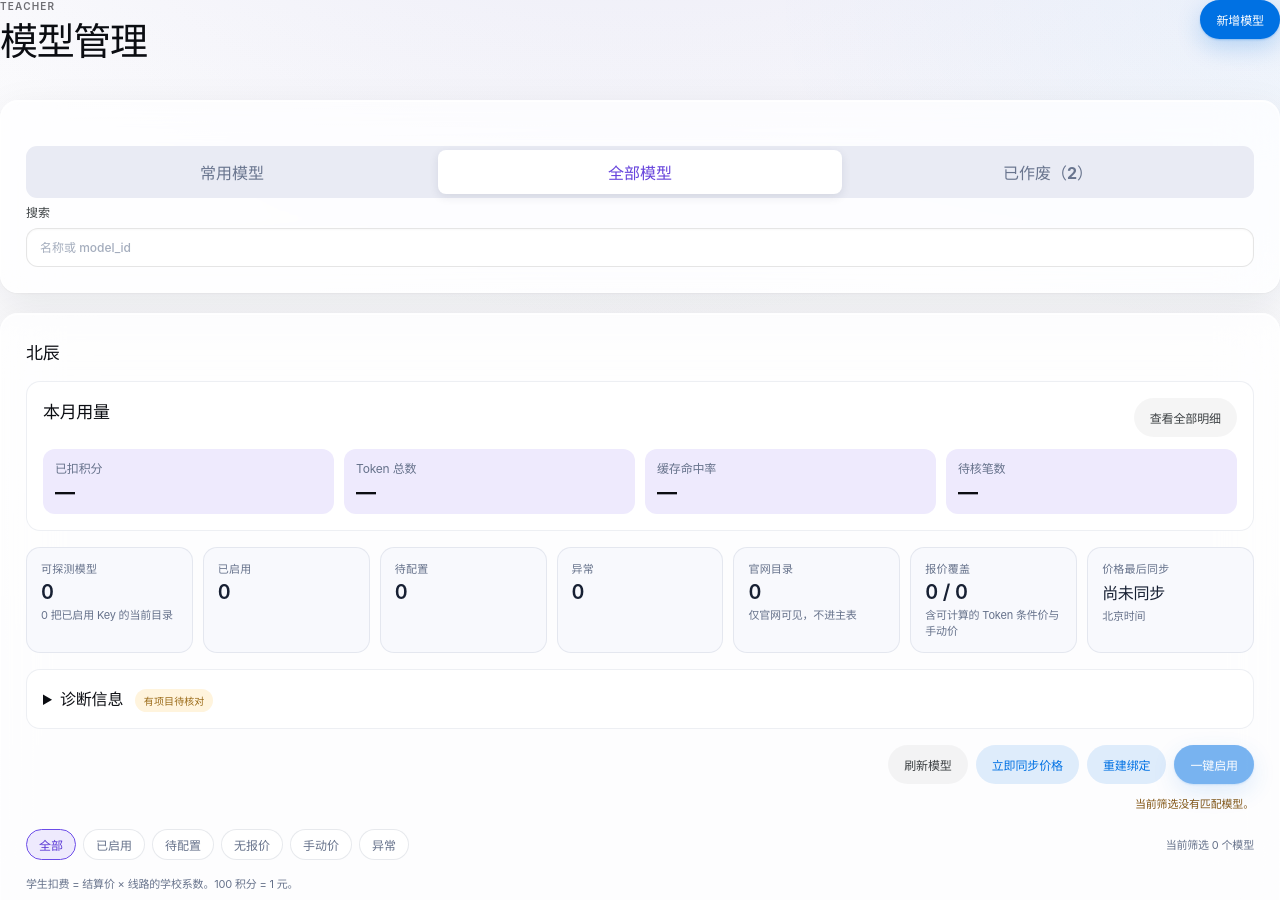
Test: TeacherModels › 把搜索命中的作废型号链接到顶层历史页
Type "old-b" into the field with placeholder "名称或 model_id" at (640, 248), box [26,228,1254,267]
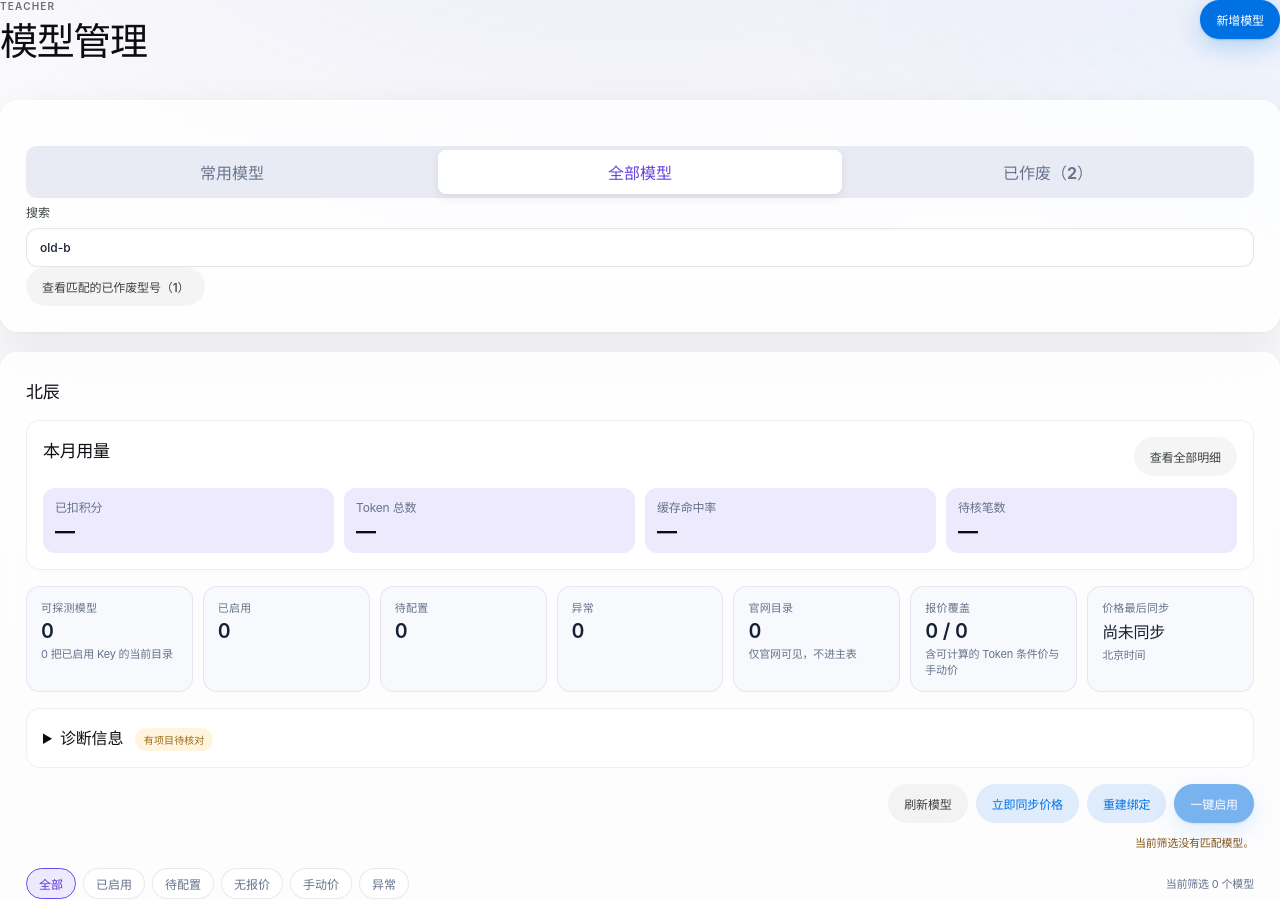
Click the button "查看匹配的已作废型号（1）" at (116, 286), box [26,267,205,306]
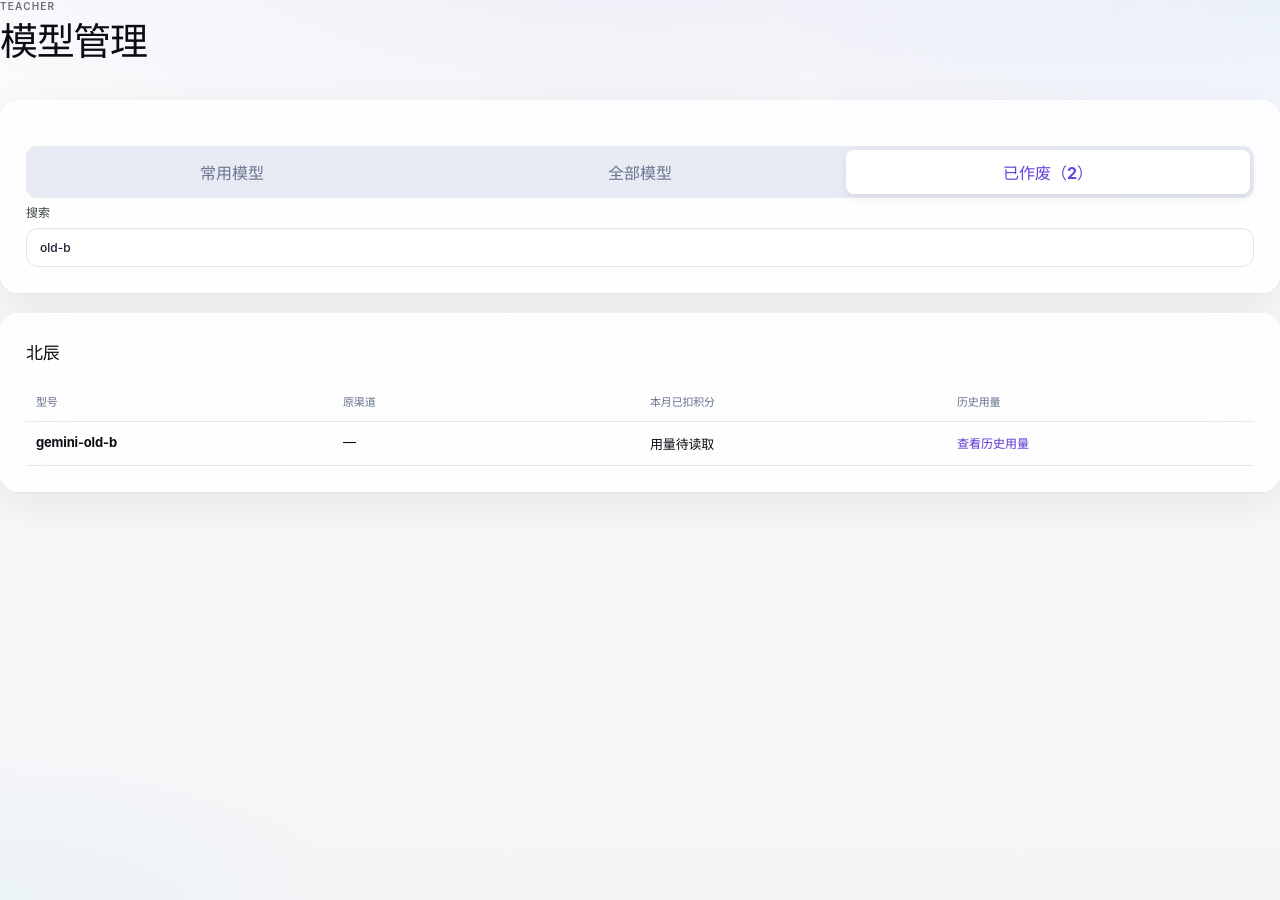
Check: the text "新增模型" is gone
